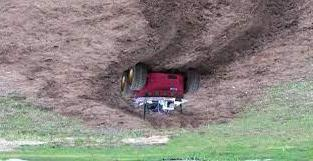vehicle_track: (183, 0, 296, 72), (136, 0, 192, 64)
